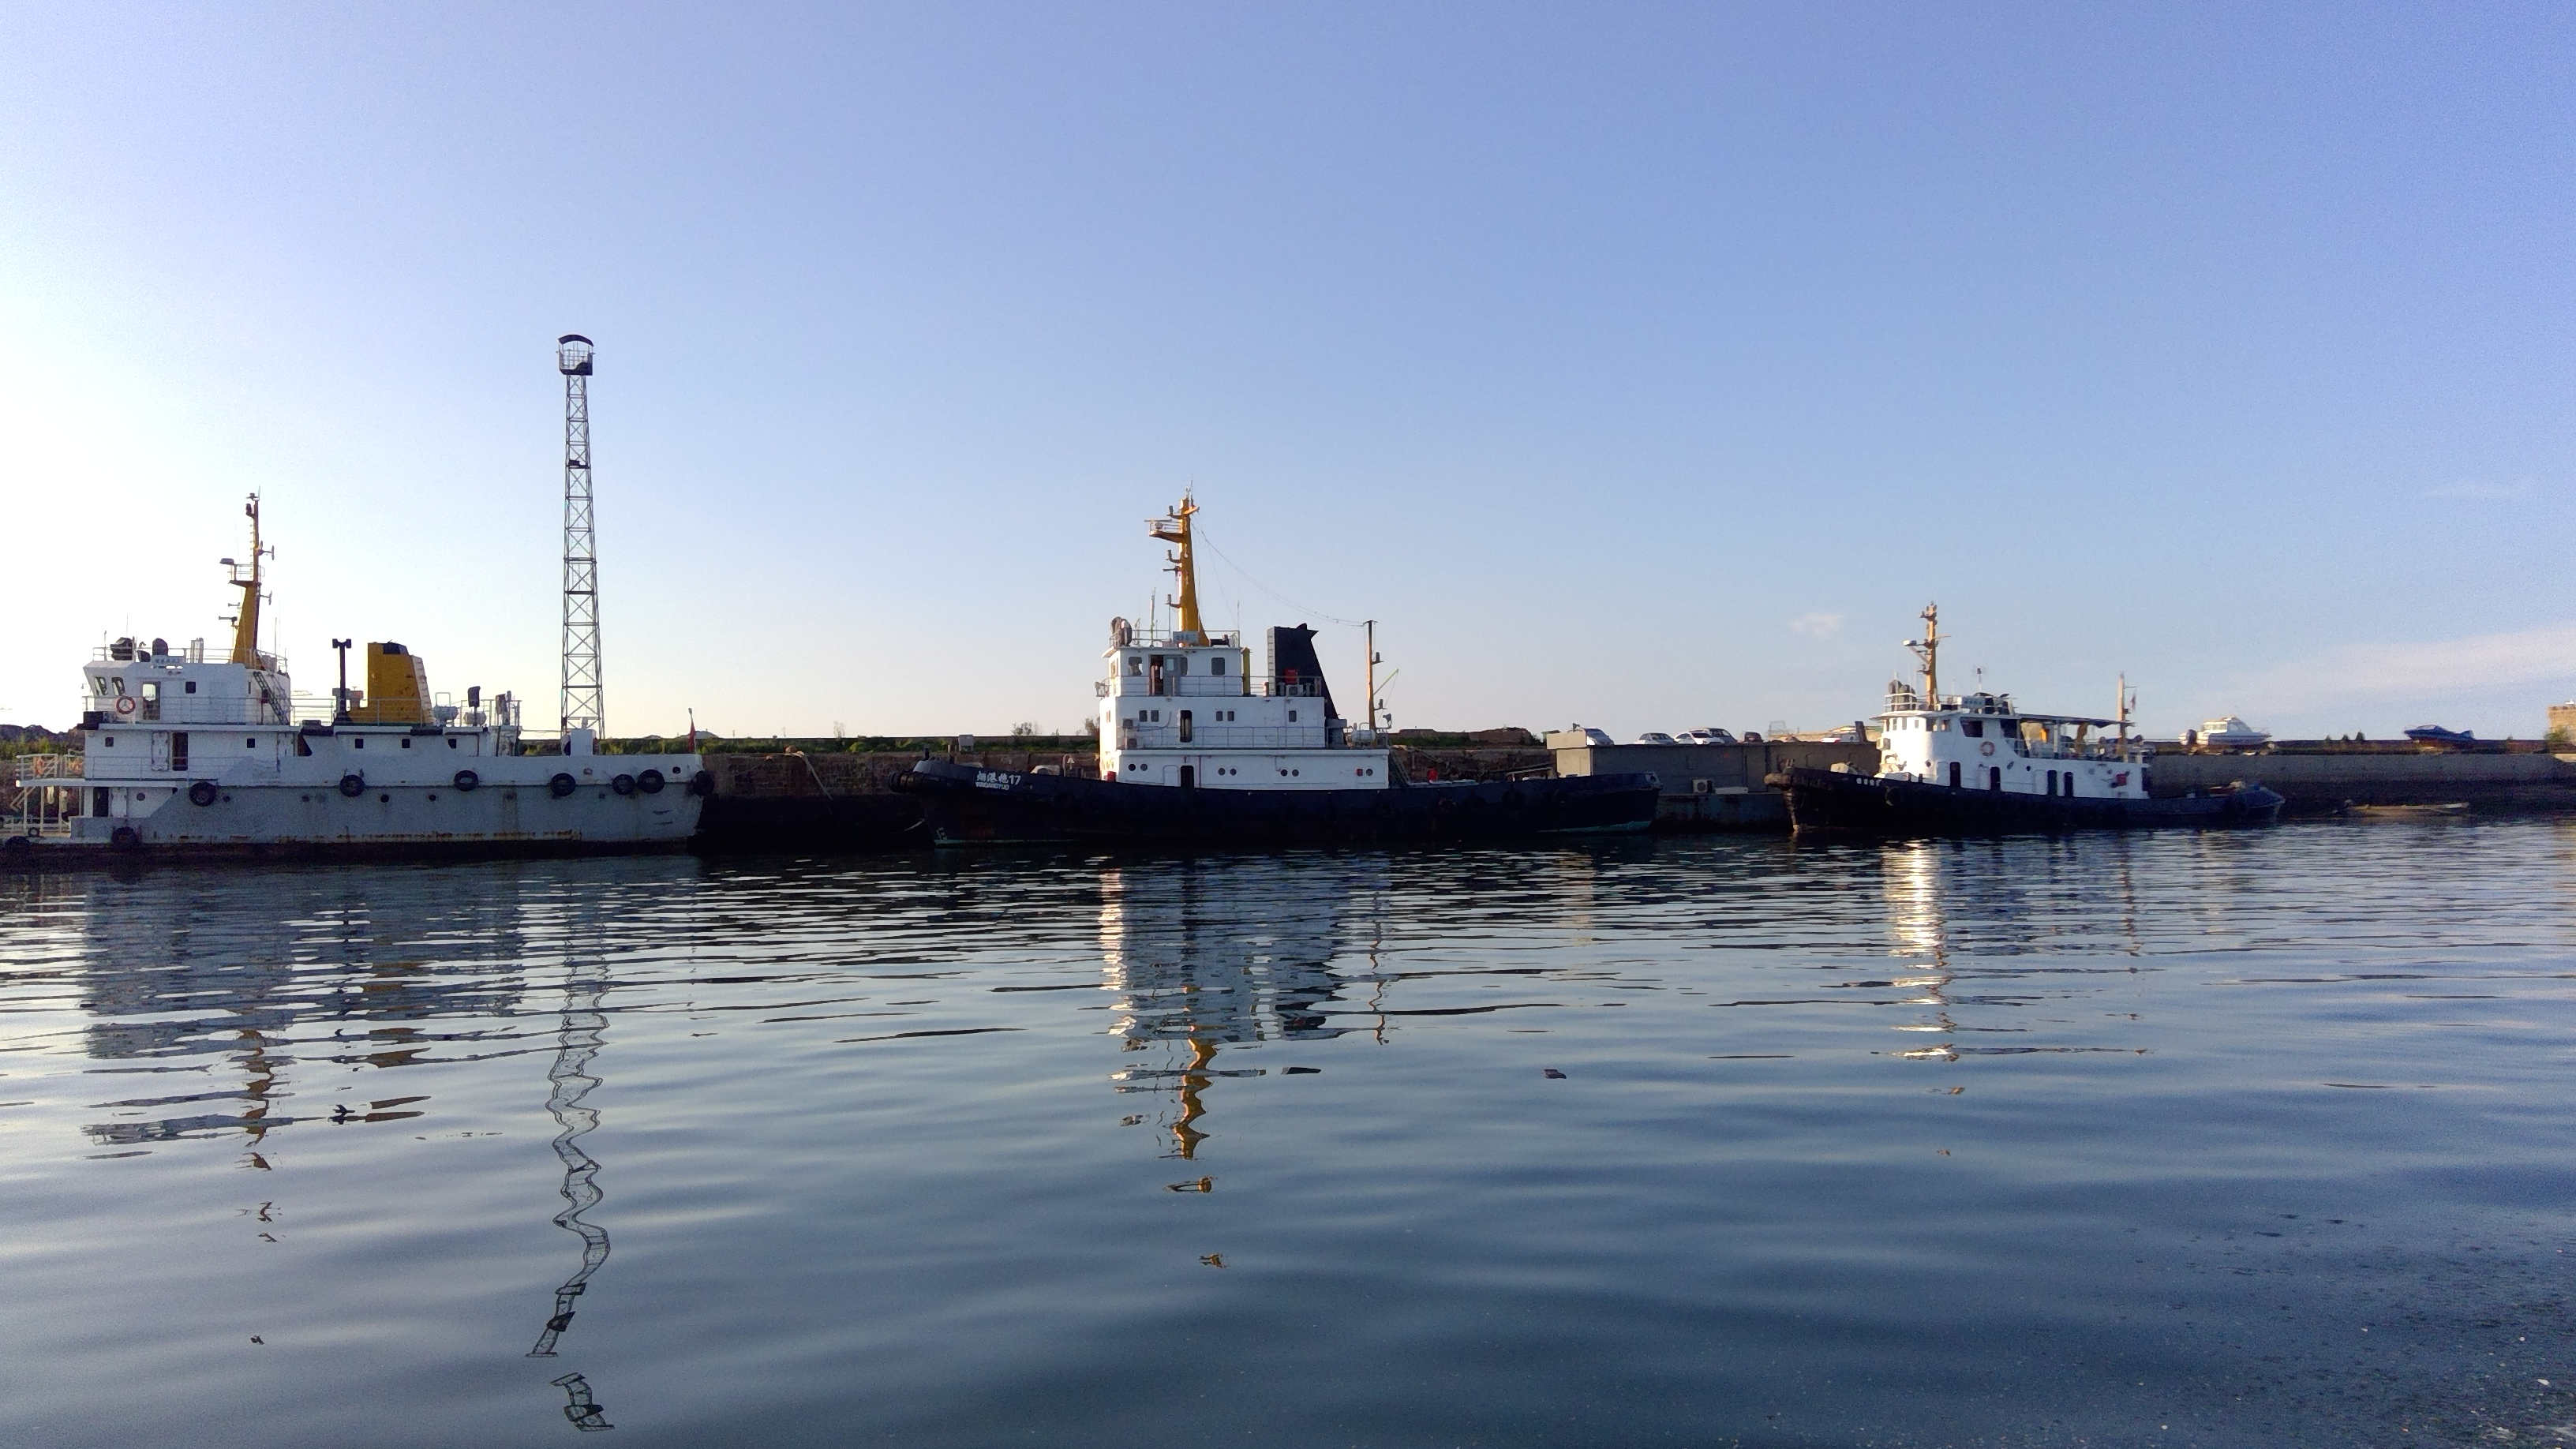ship: (2, 623, 697, 849), (899, 607, 1454, 853), (1759, 671, 2173, 858)
